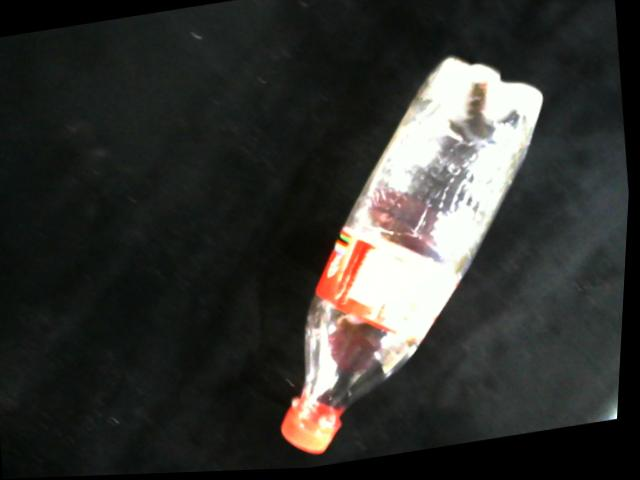bottle: (284, 60, 546, 458)
